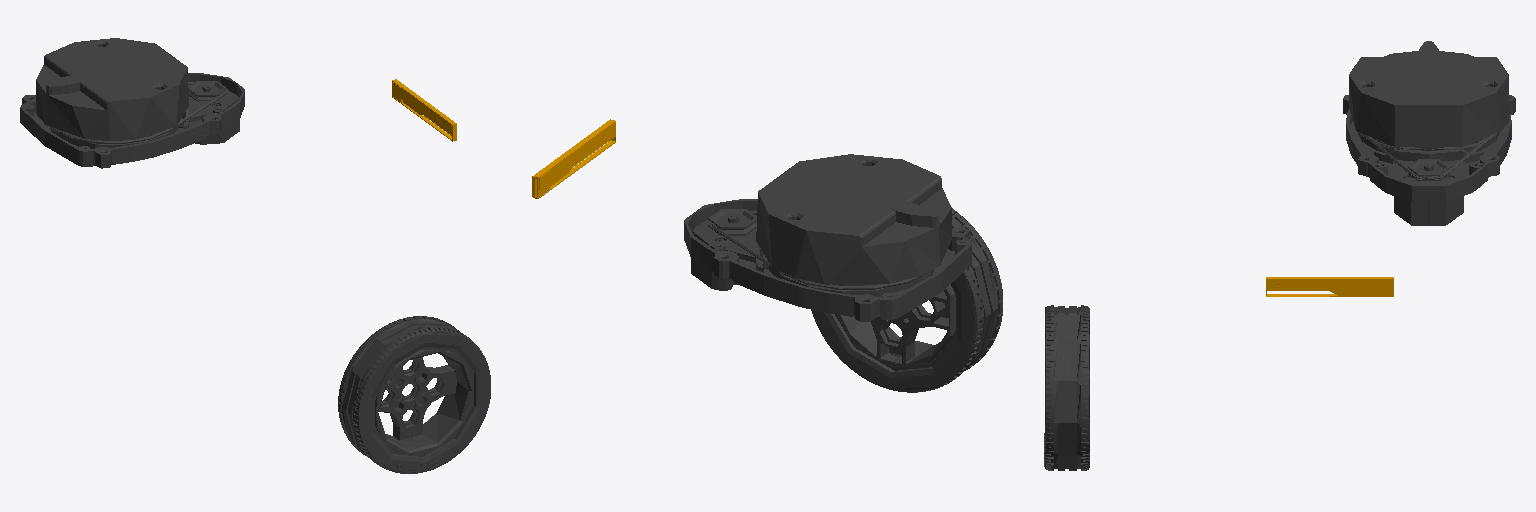
The robot description file, URDF, robot "turtlebot3_waffle":
<?xml version="1.0" ?>

<!-- ================================================================================================ -->
<!-- Note: This URDF file and associated content are based on files from the GitHub repository below. -->
<!--       Geometry files were converted as necessary to a format supported by Simscape Multibody.    -->
<!--       Adjustments were made to the URDF file for compatibility with Simscape Multibody.          -->
<!--                                                                                                  -->
<!--  GitHub source: https://github.com/ROBOTIS-GIT/turtlebot3/tree/1.2.0                             -->
<!-- ================================================================================================ -->

<!-- =================================================================================== -->
<!-- |    This document was autogenerated by xacro from turtlebot3_description/urdf/turtlebot3_waffle.urdf.xacro | -->
<!-- |    EDITING THIS FILE BY HAND IS NOT RECOMMENDED                                 | -->
<!-- =================================================================================== -->
<robot name="turtlebot3_waffle" xmlns:xacro="http://ros.org/wiki/xacro">
  <!-- Init colour -->
  <material name="black">
    <color rgba="0.0 0.0 0.0 1.0"/>
  </material>
  <material name="dark">
    <color rgba="0.3 0.3 0.3 1.0"/>
  </material>
  <material name="light_black">
    <color rgba="0.4 0.4 0.4 1.0"/>
  </material>
  <material name="blue">
    <color rgba="0.0 0.0 0.8 1.0"/>
  </material>
  <material name="green">
    <color rgba="0.0 0.8 0.0 1.0"/>
  </material>
  <material name="grey">
    <color rgba="0.5 0.5 0.5 1.0"/>
  </material>
  <material name="orange">
    <color rgba="1.0 0.423529411765 0.0392156862745 1.0"/>
  </material>
  <material name="brown">
    <color rgba="0.870588235294 0.811764705882 0.764705882353 1.0"/>
  </material>
  <material name="red">
    <color rgba="0.8 0.0 0.0 1.0"/>
  </material>
  <material name="white">
    <color rgba="1.0 1.0 1.0 1.0"/>
  </material>
  <gazebo reference="base_link">
    <material>Gazebo/DarkGrey</material>
  </gazebo>
  <gazebo reference="wheel_left_link">
    <mu1>0.1</mu1>
    <mu2>0.1</mu2>
    <kp>500000.0</kp>
    <kd>10.0</kd>
    <minDepth>0.001</minDepth>
    <maxVel>0.1</maxVel>
    <fdir1>1 0 0</fdir1>
    <material>Gazebo/FlatBlack</material>
  </gazebo>
  <gazebo reference="wheel_right_link">
    <mu1>0.1</mu1>
    <mu2>0.1</mu2>
    <kp>500000.0</kp>
    <kd>10.0</kd>
    <minDepth>0.001</minDepth>
    <maxVel>0.1</maxVel>
    <fdir1>1 0 0</fdir1>
    <material>Gazebo/FlatBlack</material>
  </gazebo>
  <gazebo reference="caster_back_right_link">
    <mu1>0.1</mu1>
    <mu2>0.1</mu2>
    <kp>1000000.0</kp>
    <kd>100.0</kd>
    <minDepth>0.001</minDepth>
    <maxVel>1.0</maxVel>
    <material>Gazebo/FlatBlack</material>
  </gazebo>
  <gazebo reference="caster_back_left_link">
    <mu1>0.1</mu1>
    <mu2>0.1</mu2>
    <kp>1000000.0</kp>
    <kd>100.0</kd>
    <minDepth>0.001</minDepth>
    <maxVel>1.0</maxVel>
    <material>Gazebo/FlatBlack</material>
  </gazebo>
  <gazebo reference="imu_link">
    <sensor name="imu" type="imu">
      <always_on>true</always_on>
      <visualize>false</visualize>
    </sensor>
    <material>Gazebo/Grey</material>
  </gazebo>
  <gazebo>
    <plugin filename="libgazebo_ros_diff_drive.so" name="turtlebot3_waffle_controller">
      <commandTopic>cmd_vel</commandTopic>
      <odometryTopic>odom</odometryTopic>
      <odometryFrame>odom</odometryFrame>
      <odometrySource>world</odometrySource>
      <publishOdomTF>true</publishOdomTF>
      <robotBaseFrame>base_footprint</robotBaseFrame>
      <publishWheelTF>false</publishWheelTF>
      <publishTf>true</publishTf>
      <publishWheelJointState>true</publishWheelJointState>
      <legacyMode>false</legacyMode>
      <updateRate>30</updateRate>
      <leftJoint>wheel_left_joint</leftJoint>
      <rightJoint>wheel_right_joint</rightJoint>
      <wheelSeparation>0.287</wheelSeparation>
      <wheelDiameter>0.066</wheelDiameter>
      <wheelAcceleration>1</wheelAcceleration>
      <wheelTorque>10</wheelTorque>
      <rosDebugLevel>na</rosDebugLevel>
    </plugin>
  </gazebo>
  <gazebo>
    <plugin filename="libgazebo_ros_imu.so" name="imu_plugin">
      <alwaysOn>true</alwaysOn>
      <bodyName>imu_link</bodyName>
      <frameName>imu_link</frameName>
      <topicName>imu</topicName>
      <serviceName>imu_service</serviceName>
      <gaussianNoise>0.0</gaussianNoise>
      <updateRate>200</updateRate>
      <imu>
        <noise>
          <type>gaussian</type>
          <rate>
            <mean>0.0</mean>
            <stddev>2e-4</stddev>
            <bias_mean>0.0000075</bias_mean>
            <bias_stddev>0.0000008</bias_stddev>
          </rate>
          <accel>
            <mean>0.0</mean>
            <stddev>1.7e-2</stddev>
            <bias_mean>0.1</bias_mean>
            <bias_stddev>0.001</bias_stddev>
          </accel>
        </noise>
      </imu>
    </plugin>
  </gazebo>
  <gazebo reference="base_scan">
    <material>Gazebo/FlatBlack</material>
    <sensor name="lds_lfcd_sensor" type="ray">
      <pose>0 0 0 0 0 0</pose>
      <visualize>false</visualize>
      <update_rate>5</update_rate>
      <ray>
        <scan>
          <horizontal>
            <samples>360</samples>
            <resolution>1</resolution>
            <min_angle>0.0</min_angle>
            <max_angle>6.28319</max_angle>
          </horizontal>
        </scan>
        <range>
          <min>0.120</min>
          <max>3.5</max>
          <resolution>0.015</resolution>
        </range>
        <noise>
          <type>gaussian</type>
          <mean>0.0</mean>
          <stddev>0.01</stddev>
        </noise>
      </ray>
      <plugin filename="libgazebo_ros_laser.so" name="gazebo_ros_lds_lfcd_controller">
        <topicName>scan</topicName>
        <frameName>base_scan</frameName>
      </plugin>
    </sensor>
  </gazebo>
  <gazebo reference="camera_rgb_frame">
    <sensor name="realsense_R200" type="depth">
      <always_on>true</always_on>
      <visualize>false</visualize>
      <camera>
        <horizontal_fov>1.3439</horizontal_fov>
        <image>
          <width>1920</width>
          <height>1080</height>
          <format>R8G8B8</format>
        </image>
        <depth_camera/>
        <clip>
          <near>0.03</near>
          <far>100</far>
        </clip>
      </camera>
      <plugin filename="libgazebo_ros_openni_kinect.so" name="camera_controller">
        <baseline>0.2</baseline>
        <alwaysOn>true</alwaysOn>
        <updateRate>30.0</updateRate>
        <cameraName>camera</cameraName>
        <frameName>camera_rgb_optical_frame</frameName>
        <imageTopicName>rgb/image_raw</imageTopicName>
        <depthImageTopicName>depth/image_raw</depthImageTopicName>
        <pointCloudTopicName>depth/points</pointCloudTopicName>
        <cameraInfoTopicName>rgb/camera_info</cameraInfoTopicName>
        <depthImageCameraInfoTopicName>depth/camera_info</depthImageCameraInfoTopicName>
        <pointCloudCutoff>0.4</pointCloudCutoff>
        <hackBaseline>0.07</hackBaseline>
        <distortionK1>0.0</distortionK1>
        <distortionK2>0.0</distortionK2>
        <distortionK3>0.0</distortionK3>
        <distortionT1>0.0</distortionT1>
        <distortionT2>0.0</distortionT2>
        <CxPrime>0.0</CxPrime>
        <Cx>0.0</Cx>
        <Cy>0.0</Cy>
        <focalLength>0</focalLength>
        <hackBaseline>0</hackBaseline>
      </plugin>
    </sensor>
  </gazebo>
  <link name="base_footprint"/>
  <joint name="base_joint" type="fixed">
    <parent link="base_footprint"/>
    <child link="base_link"/>
    <origin rpy="0 0 0" xyz="0 0 0.010"/>
  </joint>
  <link name="base_link">
    <visual>
      <origin rpy="0 0 0" xyz="-0.064 0 0.0"/>
      <geometry>
        <mesh filename="robTur3Waf_waffle_base.stl"/>
      </geometry>
      <material name="light_black"/>
    </visual>
    <collision>
      <origin rpy="0 0 0" xyz="-0.064 0 0.047"/>
      <geometry>
        <box size="0.266 0.266 0.094"/>
      </geometry>
    </collision>
    <inertial>
      <origin rpy="0 0 0" xyz="0 0 0"/>
      <mass value="1.3729096e+00"/>
      <inertia ixx="8.7002718e-03" ixy="-4.7576583e-05" ixz="1.1160499e-04" iyy="8.6195418e-03" iyz="-3.5422299e-06" izz="1.4612727e-02"/>
    </inertial>
  </link>
  <joint name="wheel_left_joint" type="continuous">
    <parent link="base_link"/>
    <child link="wheel_left_link"/>
    <origin rpy="-1.57 0 0" xyz="0.0 0.144 0.023"/>
    <axis xyz="0 0 1"/>
  </joint>
  <link name="wheel_left_link">
    <visual>
      <origin rpy="1.57 0 0" xyz="0 0 0"/>
      <geometry>
        <mesh filename="robTur3Waf_left_tire.stl"/>
      </geometry>
      <material name="dark"/>
    </visual>
    <collision>
      <origin rpy="0 0 0" xyz="0 0 0"/>
      <geometry>
        <cylinder length="0.018" radius="0.033"/>
      </geometry>
    </collision>
    <inertial>
      <origin xyz="0 0 0"/>
      <mass value="2.8498940e-02"/>
      <inertia ixx="1.1175580e-05" ixy="-4.2369783e-11" ixz="-5.9381719e-09" iyy="1.1192413e-05" iyz="-1.4400107e-11" izz="2.0712558e-05"/>
    </inertial>
  </link>
  <joint name="wheel_right_joint" type="continuous">
    <parent link="base_link"/>
    <child link="wheel_right_link"/>
    <origin rpy="-1.57 0 0" xyz="0.0 -0.144 0.023"/>
    <axis xyz="0 0 1"/>
  </joint>
  <link name="wheel_right_link">
    <visual>
      <origin rpy="1.57 0 0" xyz="0 0 0"/>
      <geometry>
        <mesh filename="robTur3Waf_right_tire.stl"/>
      </geometry>
      <material name="dark"/>
    </visual>
    <collision>
      <origin rpy="0 0 0" xyz="0 0 0"/>
      <geometry>
        <cylinder length="0.018" radius="0.033"/>
      </geometry>
    </collision>
    <inertial>
      <origin xyz="0 0 0"/>
      <mass value="2.8498940e-02"/>
      <inertia ixx="1.1175580e-05" ixy="-4.2369783e-11" ixz="-5.9381719e-09" iyy="1.1192413e-05" iyz="-1.4400107e-11" izz="2.0712558e-05"/>
    </inertial>
  </link>
  <joint name="caster_back_right_joint" type="fixed">
    <parent link="base_link"/>
    <child link="caster_back_right_link"/>
    <origin rpy="-1.57 0 0" xyz="-0.177 -0.064 -0.004"/>
  </joint>
  <link name="caster_back_right_link">
    <collision>
      <origin rpy="0 0 0" xyz="0 0.001 0"/>
      <geometry>
        <box size="0.030 0.009 0.020"/>
      </geometry>
    </collision>
    <inertial>
      <origin xyz="0 0 0"/>
      <mass value="0.005"/>
      <inertia ixx="0.001" ixy="0.0" ixz="0.0" iyy="0.001" iyz="0.0" izz="0.001"/>
    </inertial>
  </link>
  <joint name="caster_back_left_joint" type="fixed">
    <parent link="base_link"/>
    <child link="caster_back_left_link"/>
    <origin rpy="-1.57 0 0" xyz="-0.177 0.064 -0.004"/>
  </joint>
  <link name="caster_back_left_link">
    <collision>
      <origin rpy="0 0 0" xyz="0 0.001 0"/>
      <geometry>
        <box size="0.030 0.009 0.020"/>
      </geometry>
    </collision>
    <inertial>
      <origin xyz="0 0 0"/>
      <mass value="0.005"/>
      <inertia ixx="0.001" ixy="0.0" ixz="0.0" iyy="0.001" iyz="0.0" izz="0.001"/>
    </inertial>
  </link>
  <joint name="imu_joint" type="fixed">
    <parent link="base_link"/>
    <child link="imu_link"/>
    <origin rpy="0 0 0" xyz="0.0 0 0.068"/>
  </joint>
  <link name="imu_link"/>
  <joint name="scan_joint" type="fixed">
    <parent link="base_link"/>
    <child link="base_scan"/>
    <origin rpy="0 0 0" xyz="-0.064 0 0.122"/>
  </joint>
  <link name="base_scan">
    <visual>
      <origin rpy="0 0 0" xyz="0 0 0"/>
      <geometry>
        <mesh filename="robTur3Waf_lds.stl"/>
      </geometry>
      <material name="dark"/>
    </visual>
    <collision>
      <origin rpy="0 0 0" xyz="0.015 0 -0.0065"/>
      <geometry>
        <cylinder length="0.0315" radius="0.055"/>
      </geometry>
    </collision>
    <inertial>
      <mass value="0.114"/>
      <origin xyz="0 0 0"/>
      <inertia ixx="0.001" ixy="0.0" ixz="0.0" iyy="0.001" iyz="0.0" izz="0.001"/>
    </inertial>
  </link>
  <joint name="camera_joint" type="fixed">
    <origin rpy="0 0 0" xyz="0.064 -0.065 0.094"/>
    <parent link="base_link"/>
    <child link="camera_link"/>
  </joint>
  <link name="camera_link">
    <visual>
      <origin rpy="1.57 0 1.57" xyz="0 0 0"/>
      <geometry>
        <mesh filename="robTur3Waf_r200.stl"/>
      </geometry>
    </visual>
    <collision>
      <origin rpy="0 0 0" xyz="0.003 0.065 0.007"/>
      <geometry>
        <box size="0.012 0.132 0.020"/>
      </geometry>
    </collision>
    <!-- This inertial field needs doesn't contain reliable data!! -->
    <!--   <inertial>
      <mass value="0.564" />
      <origin xyz="0 0 0" />
      <inertia ixx="0.003881243" ixy="0.0" ixz="0.0"
               iyy="0.000498940" iyz="0.0"
               izz="0.003879257" />
    </inertial>-->
  </link>
  <joint name="camera_rgb_joint" type="fixed">
    <origin rpy="0 0 0" xyz="0.005 0.018 0.013"/>
    <parent link="camera_link"/>
    <child link="camera_rgb_frame"/>
  </joint>
  <link name="camera_rgb_frame"/>
  <joint name="camera_rgb_optical_joint" type="fixed">
    <origin rpy="-1.57 0 -1.57" xyz="0 0 0"/>
    <parent link="camera_rgb_frame"/>
    <child link="camera_rgb_optical_frame"/>
  </joint>
  <link name="camera_rgb_optical_frame"/>
  <joint name="camera_depth_joint" type="fixed">
    <origin rpy="0 0 0" xyz="0.005 0.028 0.013"/>
    <parent link="camera_link"/>
    <child link="camera_depth_frame"/>
  </joint>
  <link name="camera_depth_frame"/>
  <joint name="camera_depth_optical_joint" type="fixed">
    <origin rpy="-1.57 0 -1.57" xyz="0 0 0"/>
    <parent link="camera_depth_frame"/>
    <child link="camera_depth_optical_frame"/>
  </joint>
  <link name="camera_depth_optical_frame"/>
</robot>

--- Facts derived from the render (not from the file) ---
3 views of the same robot in one strip: view 1: azimuth 30°, elevation 25°; view 2: azimuth 150°, elevation 25°; view 3: azimuth 270°, elevation 25° (orthographic).
Robot: turtlebot3_waffle — 13 links, 12 joints (2 continuous, 10 fixed); root link base_footprint; default pose: all joints at 0.
Links seen in each view (by area): view 1: base_scan, wheel_right_link, camera_link; view 2: base_scan, wheel_right_link, camera_link; view 3: base_scan, wheel_right_link, camera_link.
Boxes of the visible links, <box> form: base_scan: <box>20,38,244,168</box>; wheel_right_link: <box>338,316,490,473</box>; camera_link: <box>392,79,456,141</box>; base_scan: <box>684,154,971,321</box>; wheel_right_link: <box>811,208,1002,392</box>; camera_link: <box>532,119,615,198</box>; base_scan: <box>1343,41,1515,225</box>; wheel_right_link: <box>1044,305,1089,470</box>; camera_link: <box>1266,277,1393,296</box>.
Size in the robot's own frame: 0.1633 by 0.1876 by 0.141 metres.
Meshes: 5 distinct files referenced, 3 mesh visuals loaded (3 binary STL); not drawn: 2 (reference not matched to a file when rendering).
